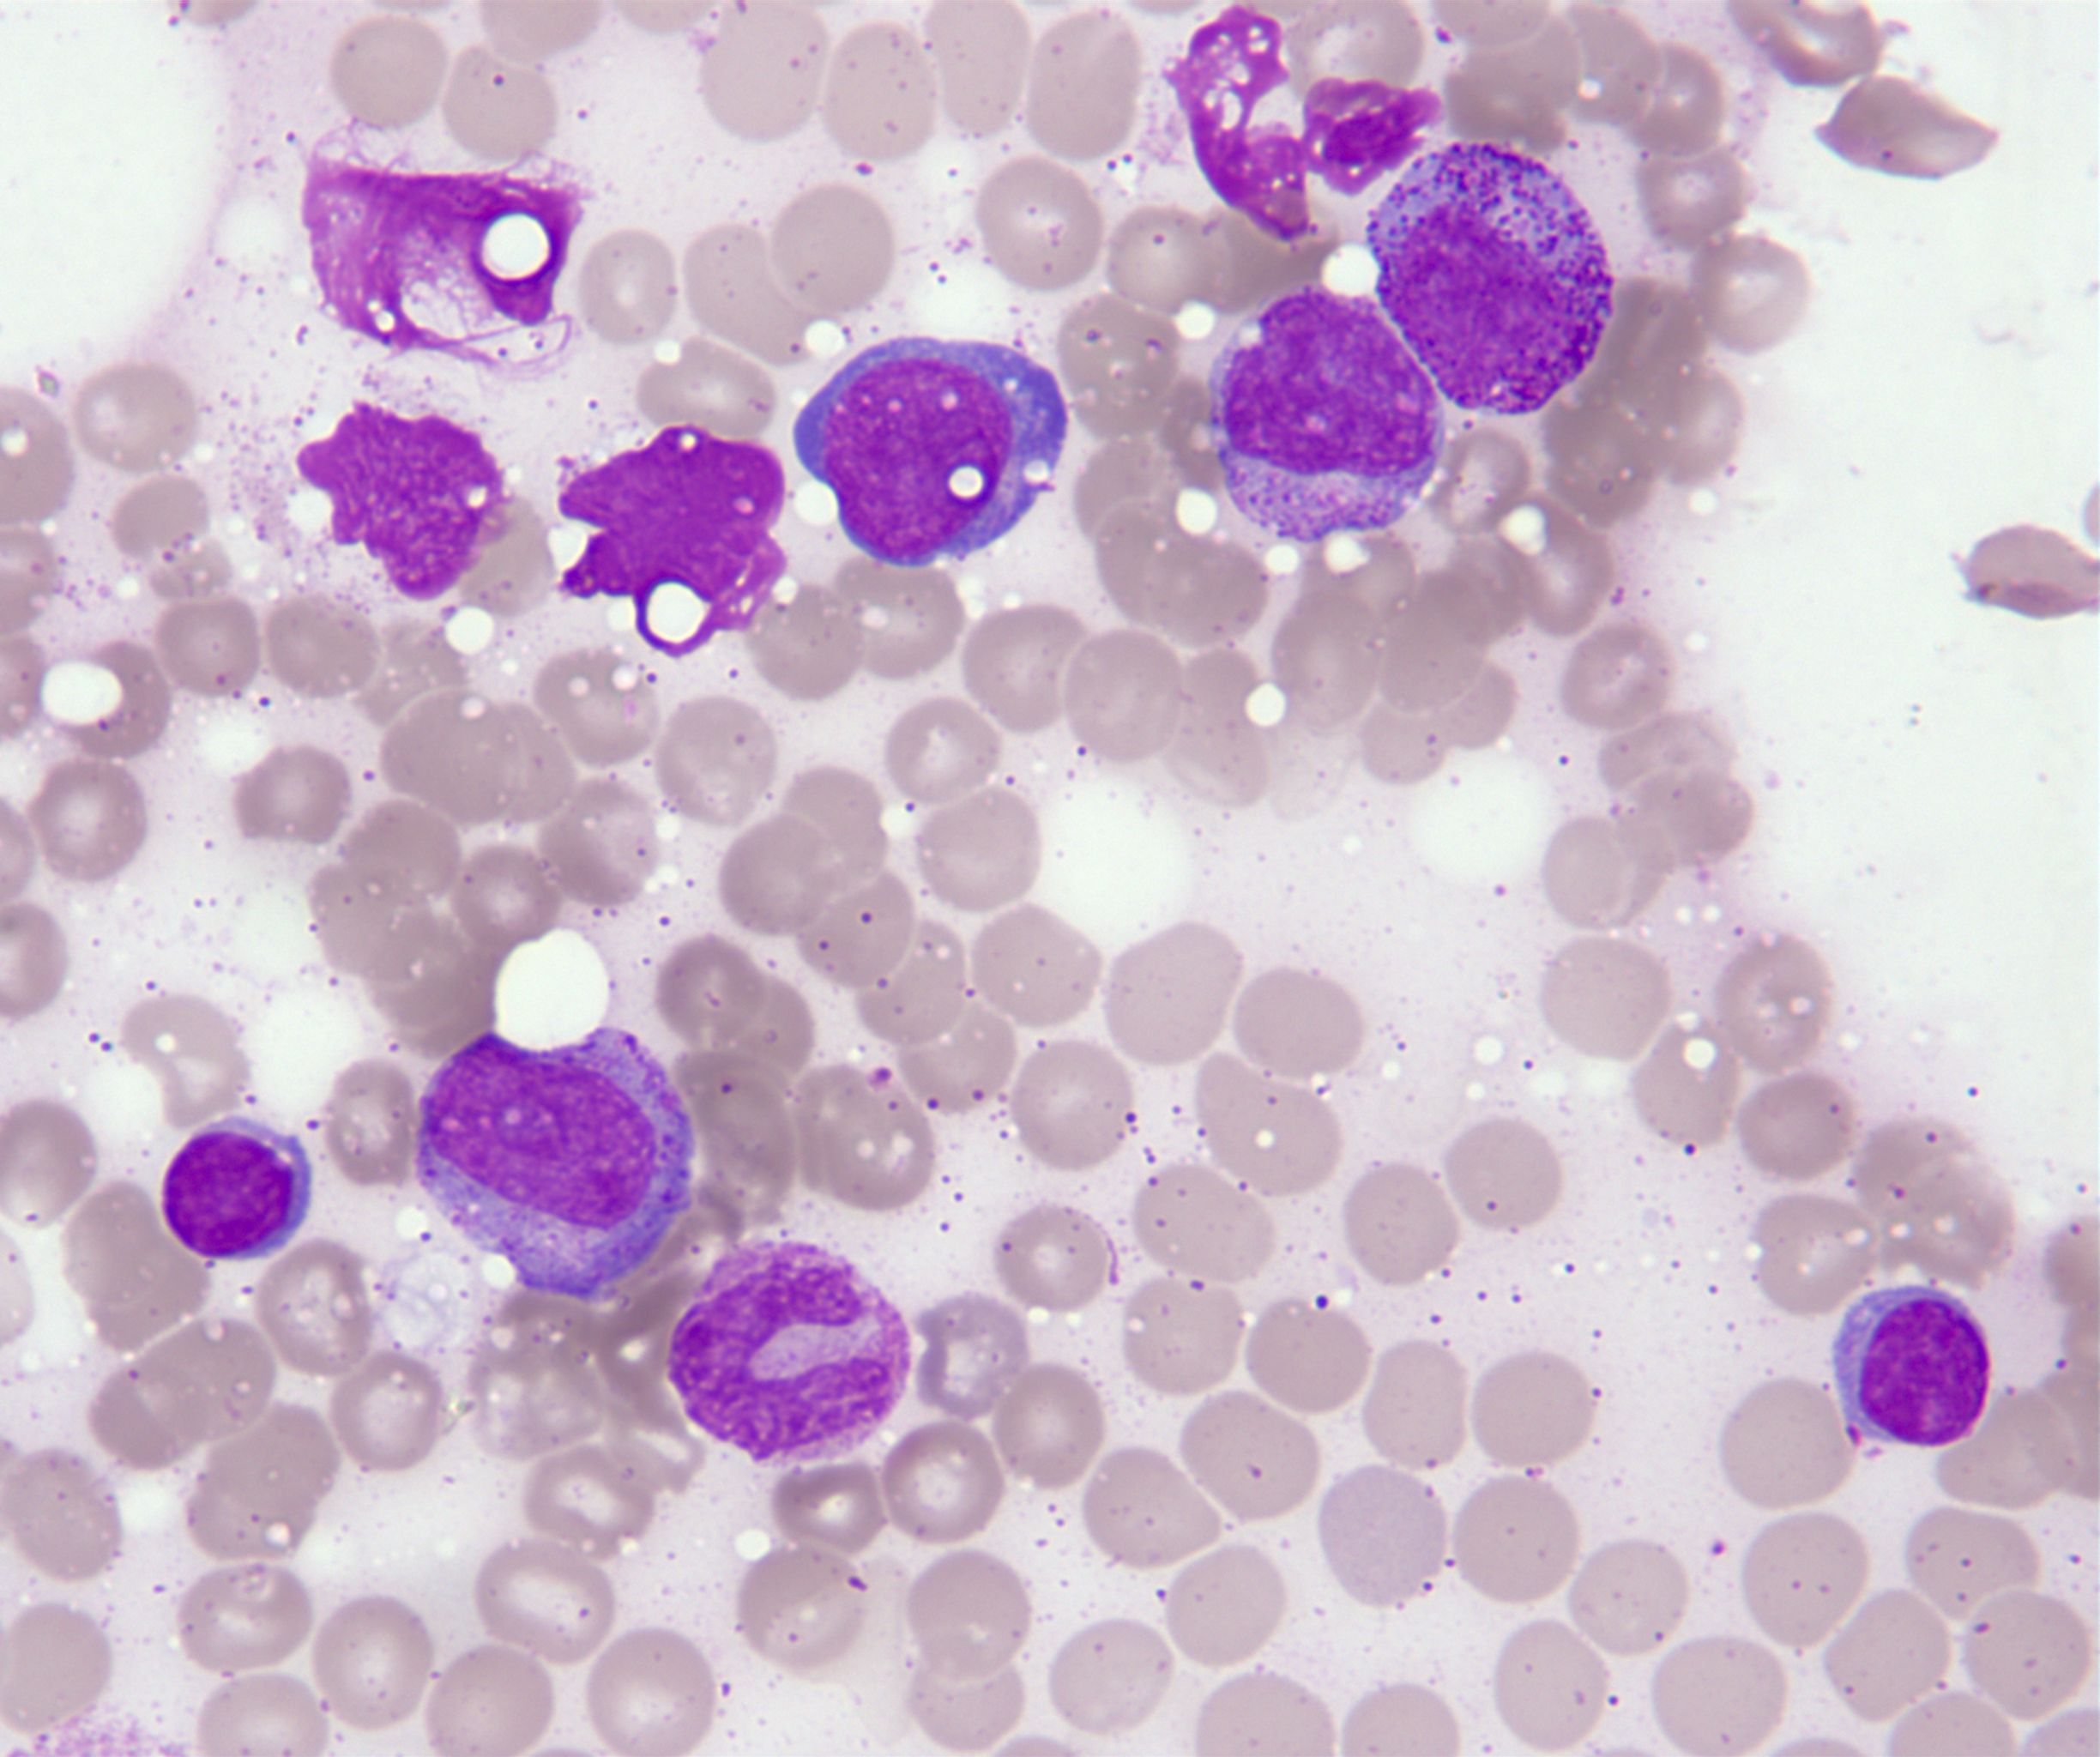2: (415, 1029, 694, 1298)
22: (794, 337, 1067, 565)
3: (1367, 145, 1613, 414), (1210, 290, 1442, 543)
32: (1835, 1288, 1992, 1446), (162, 1115, 310, 1260)
4: (670, 1244, 909, 1467)
x: (1160, 0, 1446, 243), (303, 147, 595, 370), (560, 424, 788, 656), (297, 401, 509, 600)
